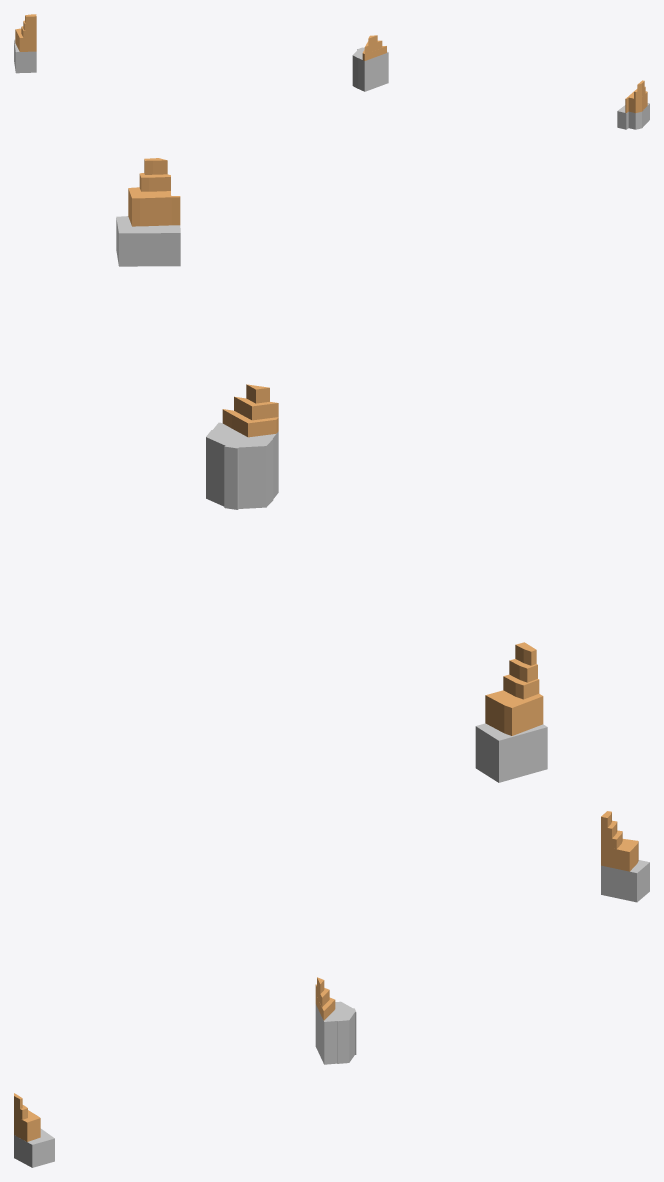
The model's file is 261008_sunlight_test3.glb.
3 views of the same model, one above another, from view 1: azimuth 30°, elevation 25°; view 2: azimuth 150°, elevation 25°; view 3: azimuth 270°, elevation 25° (orthographic). The views are drawn at different scales.
Visible parts, largest first — view 1: 1156011600101100021_EXIST_F02, 1156011600101040010_EXIST_F05, 1156011600101100021_EXIST_F01, 1156011600101040010_EXIST_F02, 1156011600101040010_EXIST_F04, 1156011600101040010_EXIST_F01, 1156011600101040010_EXIST_F03, 1156011600102890003_REV_F05, 1156011600101100021_REV_F04, 1156011600102890003_EXIST_F03, 1156011600101040010_REV_F06; view 2: 1156011600101040010_EXIST_F05, 1156011600101100021_EXIST_F02, 1156011600102890003_EXIST_F03, 1156011600102890003_REV_F05, 1156011600101100021_EXIST_F01, 1156011600101100021_REV_F04, 1156011600102890003_EXIST_F02, 1156011600102890003_EXIST_F01, 1156011600101040010_REV_F06, 1156011600101040010_EXIST_F01, 1156011600101040010_EXIST_F04, 1156011600101040010_EXIST_F02 (+1 smaller); view 3: 1156011600101040010_EXIST_F05, 1156011600101100021_EXIST_F02, 1156011600102890003_EXIST_F03, 1156011600102890003_REV_F05, 1156011600102890003_EXIST_F01.
Part boxes in pixels (box(x1,y1,x2,y2)): 1156011600101100021_EXIST_F02: box(617, 103, 649, 121); 1156011600101040010_EXIST_F05: box(352, 47, 388, 67); 1156011600101100021_EXIST_F01: box(617, 112, 649, 129); 1156011600101040010_EXIST_F02: box(352, 71, 388, 85); 1156011600101040010_EXIST_F04: box(352, 58, 388, 73); 1156011600101040010_EXIST_F01: box(352, 77, 388, 91); 1156011600101040010_EXIST_F03: box(352, 64, 388, 79); 1156011600102890003_REV_F05: box(15, 28, 36, 44); 1156011600101100021_REV_F04: box(625, 91, 647, 105); 1156011600102890003_EXIST_F03: box(14, 39, 36, 59); 1156011600101040010_REV_F06: box(362, 46, 386, 60); 1156011600101040010_EXIST_F05: box(206, 422, 278, 460); 1156011600101100021_EXIST_F02: box(116, 216, 180, 249); 1156011600102890003_EXIST_F03: box(475, 723, 547, 754); 1156011600102890003_REV_F05: box(485, 690, 543, 721); 1156011600101100021_EXIST_F01: box(116, 235, 180, 266); 1156011600101100021_REV_F04: box(128, 187, 180, 212); 1156011600102890003_EXIST_F02: box(475, 740, 547, 768); 1156011600102890003_EXIST_F01: box(475, 754, 547, 782); 1156011600101040010_REV_F06: box(222, 409, 278, 437); 1156011600101040010_EXIST_F01: box(206, 481, 278, 509); 1156011600101040010_EXIST_F04: box(206, 444, 278, 472); 1156011600101040010_EXIST_F02: box(206, 468, 278, 497); 1156011600101040010_EXIST_F05: box(315, 1001, 356, 1030); 1156011600101100021_EXIST_F02: box(14, 1128, 54, 1156); 1156011600102890003_EXIST_F03: box(601, 860, 649, 882); 1156011600102890003_REV_F05: box(601, 839, 638, 861); 1156011600102890003_EXIST_F01: box(601, 882, 649, 902).
Bounding box in the file's own units: 209 × 26.4 × 195.
